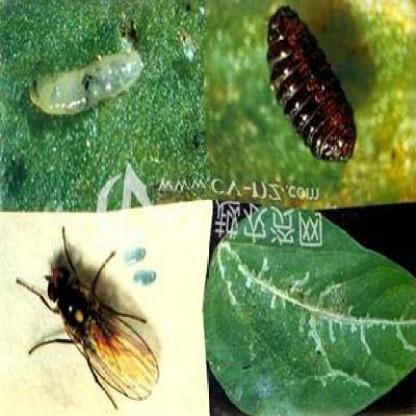whorl-maggot: (260, 6, 361, 167), (30, 40, 145, 119)
